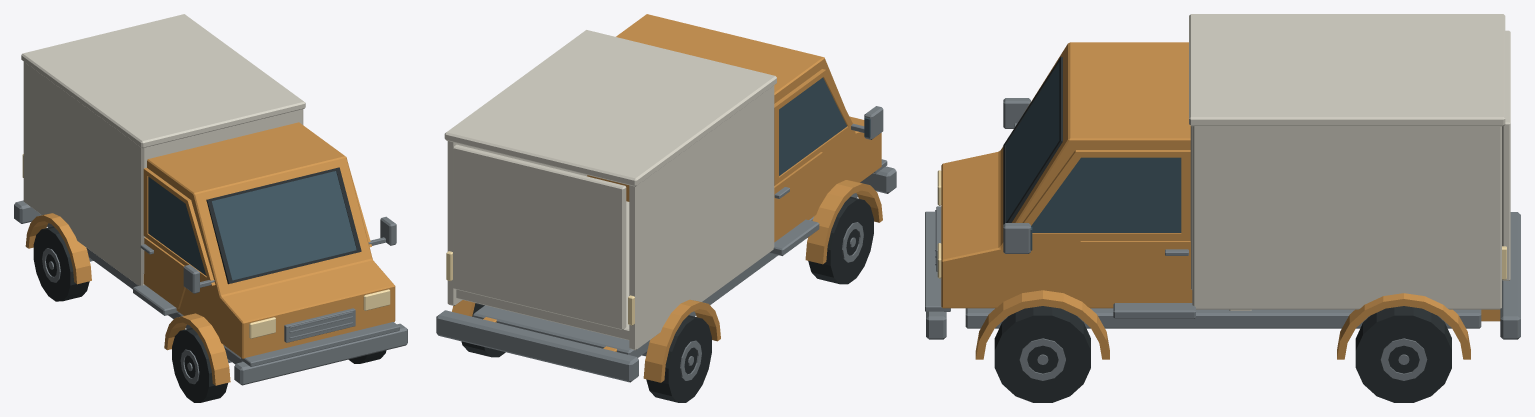
3 views of the same model, side by side, from view 1: azimuth 30°, elevation 25°; view 2: azimuth 150°, elevation 25°; view 3: azimuth 270°, elevation 25° (orthographic). The views are drawn at different scales.
Parts seen in each view (by area): view 1: Sloped cab, Cargo roof, Cargo side, Front windshield glazing, Bumper, Cab side glazing, Tire.002, Tire, Cargo front, Cab door lower skin, Wheel arch rolled lip, Front windshield frame (+11 smaller); view 2: Cargo roof, Rear cargo door, Cargo side, Sloped cab, Bumper.001, Cab side glazing, Chassis, Tire, Tire.002, Cab door lower skin, Wheel arch rolled lip, Wheel arch rolled lip.001 (+9 smaller); view 3: Cargo side.001, Cargo roof, Sloped cab, Cab side glazing.001, Tire.003, Tire.001, Cab door lower skin.001, Chassis, Front windshield glazing, Cab side frame.001, Wheel arch rolled lip.002, Wheel arch rolled lip.003 (+10 smaller).
Boxes of the visible parts, box(x1,y1,x2,y2) form: Sloped cab: box(147, 122, 395, 358); Cargo roof: box(21, 14, 305, 148); Cargo side: box(23, 62, 144, 285); Front windshield glazing: box(212, 171, 356, 280); Bumper: box(234, 323, 407, 385); Cab side glazing: box(148, 177, 206, 275); Tire.002: box(33, 226, 89, 301); Tire: box(172, 328, 227, 402); Cargo front: box(143, 109, 302, 273); Cab door lower skin: box(143, 237, 185, 308); Wheel arch rolled lip: box(164, 313, 230, 385); Front windshield frame: box(206, 167, 361, 284); Cargo roof: box(444, 30, 776, 186); Rear cargo door: box(453, 144, 626, 329); Cargo side: box(629, 85, 774, 350); Sloped cab: box(587, 14, 881, 219); Bumper.001: box(436, 310, 638, 382); Cab side glazing: box(779, 77, 846, 175); Chassis: box(473, 193, 857, 357); Tire: box(808, 196, 873, 284); Tire.002: box(646, 315, 711, 402); Cab door lower skin: box(774, 152, 822, 242); Wheel arch rolled lip: box(805, 180, 882, 264); Wheel arch rolled lip.001: box(643, 299, 720, 382); Cargo side.001: box(1192, 126, 1501, 309); Cargo roof: box(1189, 14, 1505, 126); Sloped cab: box(941, 42, 1191, 308); Cab side glazing.001: box(1031, 157, 1181, 232); Tire.003: box(1355, 306, 1451, 402); Tire.001: box(994, 306, 1090, 402); Cab door lower skin.001: box(1080, 241, 1192, 302); Chassis: box(965, 308, 1481, 328); Front windshield glazing: box(1005, 63, 1059, 222); Cab side frame.001: box(1022, 150, 1190, 239); Wheel arch rolled lip.002: box(975, 290, 1109, 359); Wheel arch rolled lip.003: box(1337, 293, 1470, 359).
Size of the model in its own units: 1.79 by 1.8 by 3.46.
